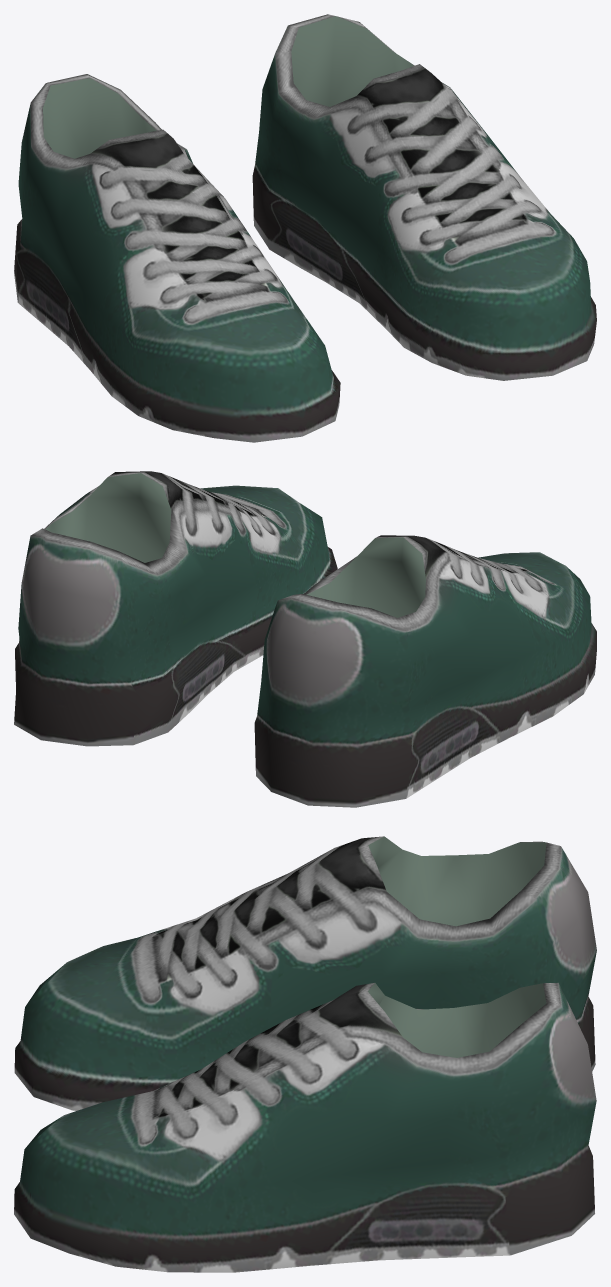
The model's file is Trainers_Green.fbx.
The picture shows the model from 3 angles, top to bottom: view 1: azimuth 30°, elevation 25°; view 2: azimuth 150°, elevation 25°; view 3: azimuth 270°, elevation 25°; orthographic projection. The views are drawn at different scales.
Parts seen in each view (by area): view 1: Left_Shoe, Right_Shoe; view 2: Right_Shoe, Left_Shoe; view 3: Left_Shoe, Right_Shoe.
Part boxes in pixels (x1,y1,x2,y2): Left_Shoe: (252,14,596,380); Right_Shoe: (14,74,340,442); Right_Shoe: (254,535,596,807); Left_Shoe: (14,471,337,746); Left_Shoe: (14,982,596,1272); Right_Shoe: (14,836,596,1110).
Bounding box in the file's own units: 0.3708 × 0.157 × 0.3615.
